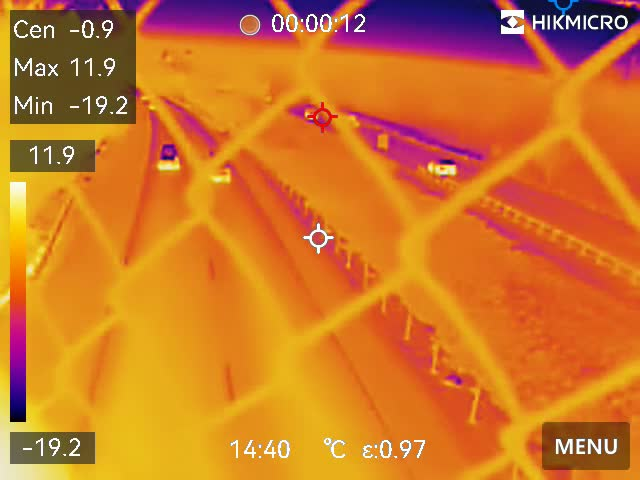vehicle: (203, 151, 239, 187), (154, 139, 185, 174), (420, 157, 460, 179)
